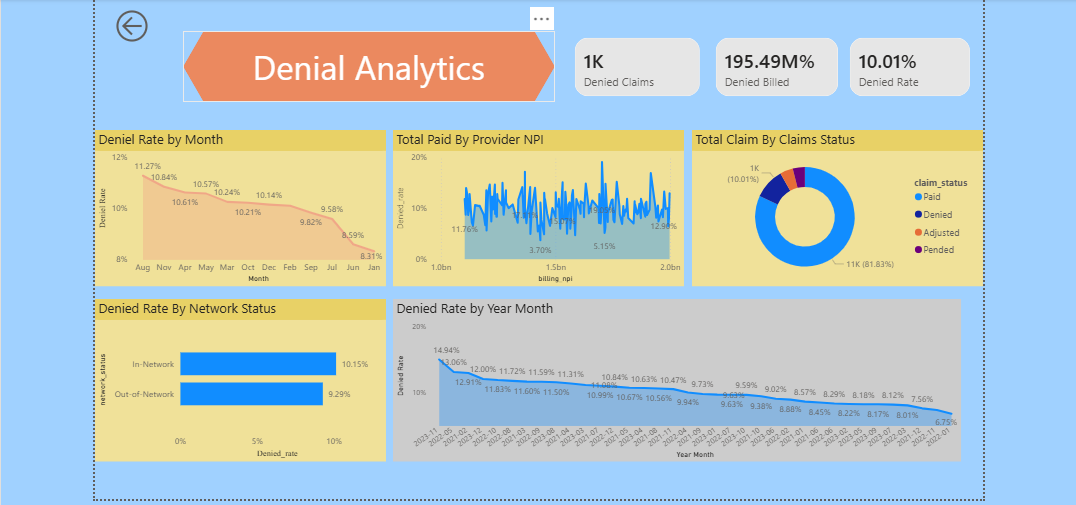

Layout of this report page (visuals, bound fields, positions):
{"tool":"powerbi","page":{"name":"Denial Analytics","canvas":[1280,720],"ordinal":1},"visuals":[{"type":"cardVisual","fields":{"Data":["claims.Denied_claims"]},"box":[673.9,38.9,214.6,118.1],"z":0},{"type":"cardVisual","fields":{"Data":["claims.Denied_billed"]},"box":[877,38.9,210.2,118.1],"z":1000},{"type":"cardVisual","fields":{"Data":["claims.Denied_rate"]},"box":[1069.9,38.9,207.4,118.1],"z":2000},{"type":"lineChart","fields":{"Category":["DimDate.Month"],"Y":["claims.Denied_rate"]},"box":[0,188.2,419.1,225],"z":3000},{"type":"stackedAreaChart","title":"Total Paid By Provider NPI","fields":{"Category":["claims.billing_npi"],"Y":["claims.Denied_rate"]},"box":[429.4,188.2,419.1,225],"z":4000},{"type":"clusteredBarChart","title":"Denied Rate By Network Status","fields":{"Y":["claims.Denied_rate"],"Category":["claims.network_status"]},"box":[0,432.4,419.1,233.8],"z":5000},{"type":"donutChart","title":"Total Claim By Claims Status","fields":{"Category":["claims.claim_status"],"Y":["claims.total_claims"]},"box":[860.3,188.2,419.1,225],"z":6000},{"type":"lineChart","fields":{"Y":["claims.Denied_rate"],"Category":["DimDate.Year Month"]},"box":[429.4,432.4,817.6,233.8],"z":7000},{"type":"shape","box":[126.7,46.1,535.7,102.2],"z":8000},{"type":"actionButton","box":[24.5,10.1,126.7,57.6],"z":9000}]}

Visuals, with their boxes on the page's 1280x720 design canvas (x1, y1, x2, y2). These are canvas units, not pixel positions in the 1076x505 screenshot, which may show the page scaled, cropped or inside an application window:
cardVisual - claims.Denied_claims: 674, 39, 888, 157
cardVisual - claims.Denied_billed: 877, 39, 1087, 157
cardVisual - claims.Denied_rate: 1070, 39, 1277, 157
lineChart - DimDate.Month x claims.Denied_rate: 0, 188, 419, 413
"Total Paid By Provider NPI" stackedAreaChart: 429, 188, 848, 413
"Denied Rate By Network Status" clusteredBarChart: 0, 432, 419, 666
"Total Claim By Claims Status" donutChart: 860, 188, 1279, 413
lineChart - claims.Denied_rate x DimDate.Year Month: 429, 432, 1247, 666
shape: 127, 46, 662, 148
actionButton: 24, 10, 151, 68
